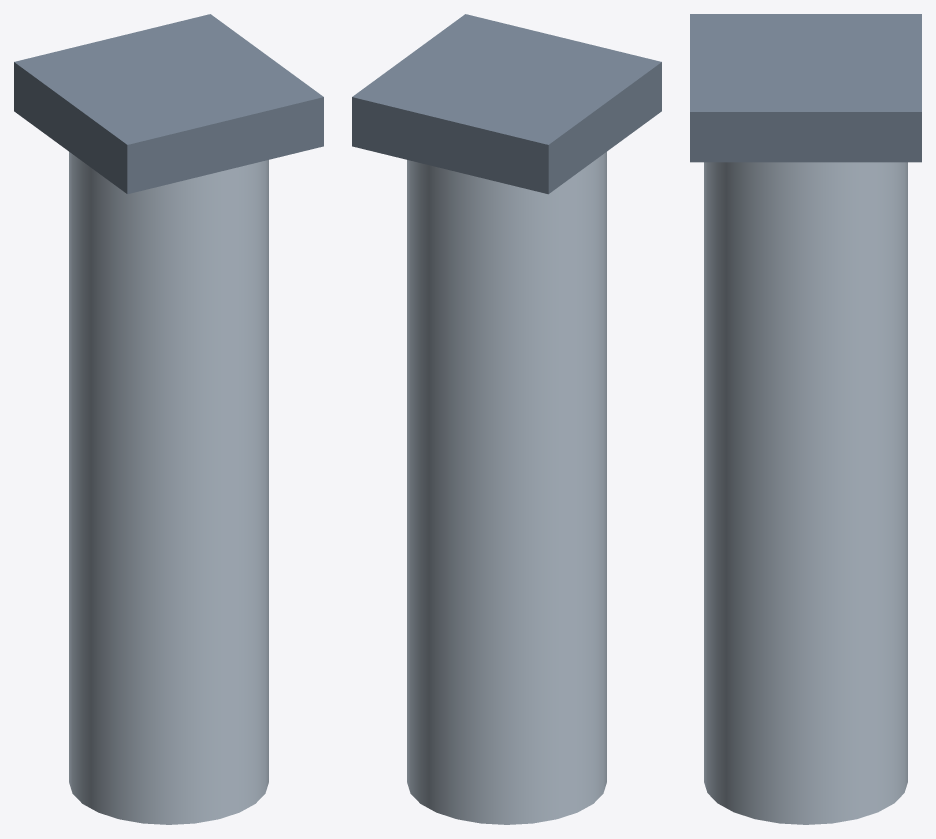
File: rcc_short_column_helical_ties.glb
3 views of the same model, side by side, from view 1: azimuth 30°, elevation 25°; view 2: azimuth 150°, elevation 25°; view 3: azimuth 270°, elevation 25° (orthographic). The views are drawn at different scales.
Parts seen in each view (by area): view 1: RCCColumnConcreteCorePrism, ColumnTopLoadingPlatenCap; view 2: RCCColumnConcreteCorePrism, ColumnTopLoadingPlatenCap; view 3: RCCColumnConcreteCorePrism, ColumnTopLoadingPlatenCap.
Boxes of the visible parts, x1,y1,x2,y2 form: RCCColumnConcreteCorePrism: (69,152,268,824); ColumnTopLoadingPlatenCap: (14,14,323,194); RCCColumnConcreteCorePrism: (407,152,606,824); ColumnTopLoadingPlatenCap: (352,14,661,194); RCCColumnConcreteCorePrism: (704,162,907,824); ColumnTopLoadingPlatenCap: (690,14,921,162).
Size of the model in its own units: 0.5 by 1.71 by 0.5.
